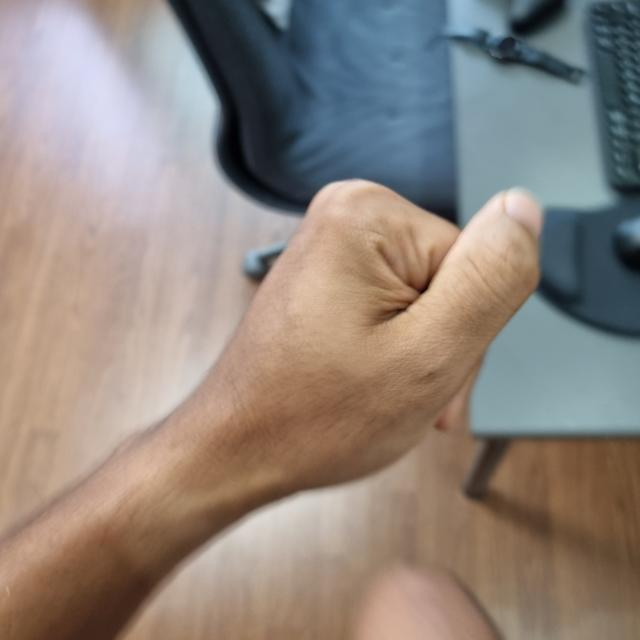Rock: (184, 182, 540, 492)
